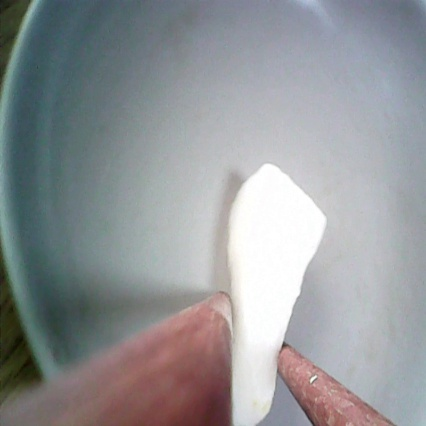white_chinese-yam: (222, 154, 330, 426)
